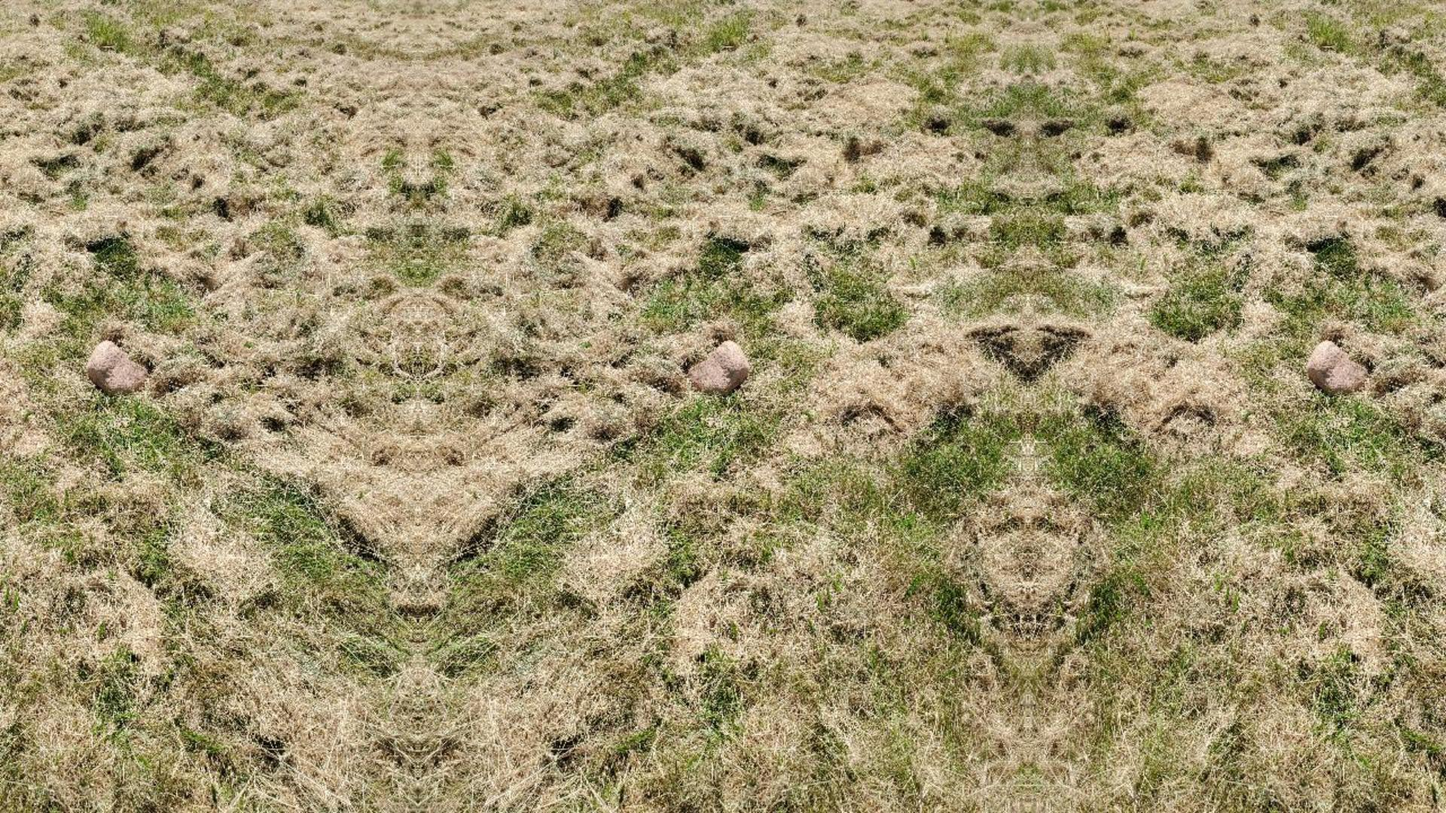rock: (688, 341, 748, 393), (87, 341, 147, 393), (1307, 341, 1367, 393)
